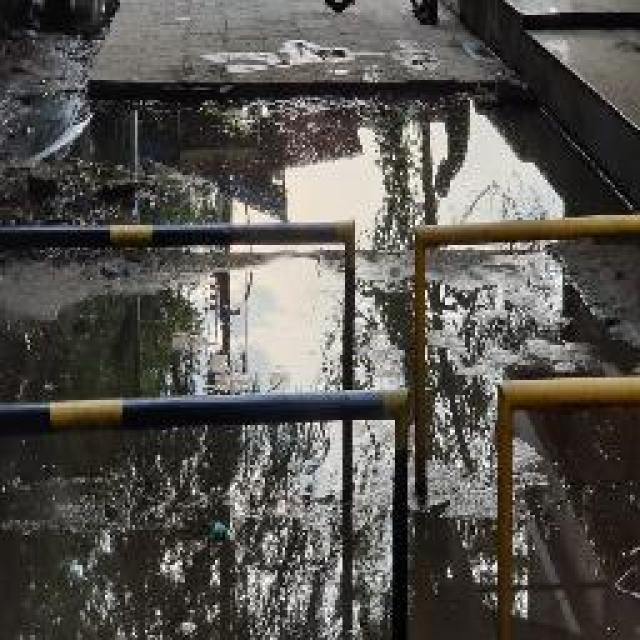stagnation: (129, 84, 583, 228)
